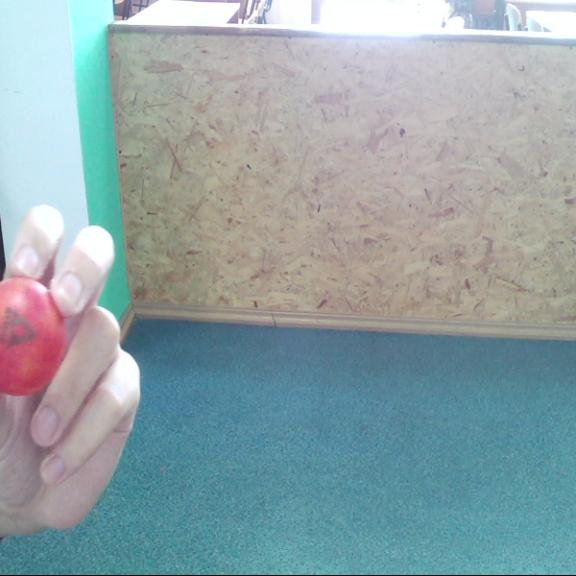ball: (0, 267, 67, 410)
